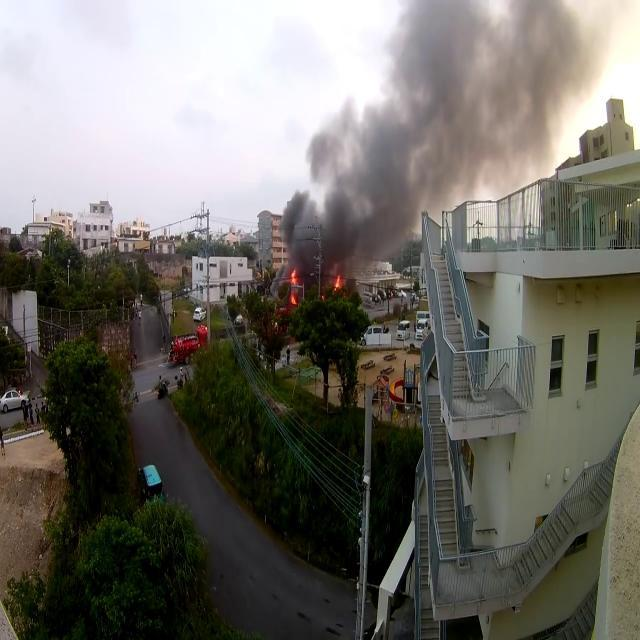Fire: (288, 266, 300, 286), (290, 292, 298, 306), (334, 276, 341, 290)
